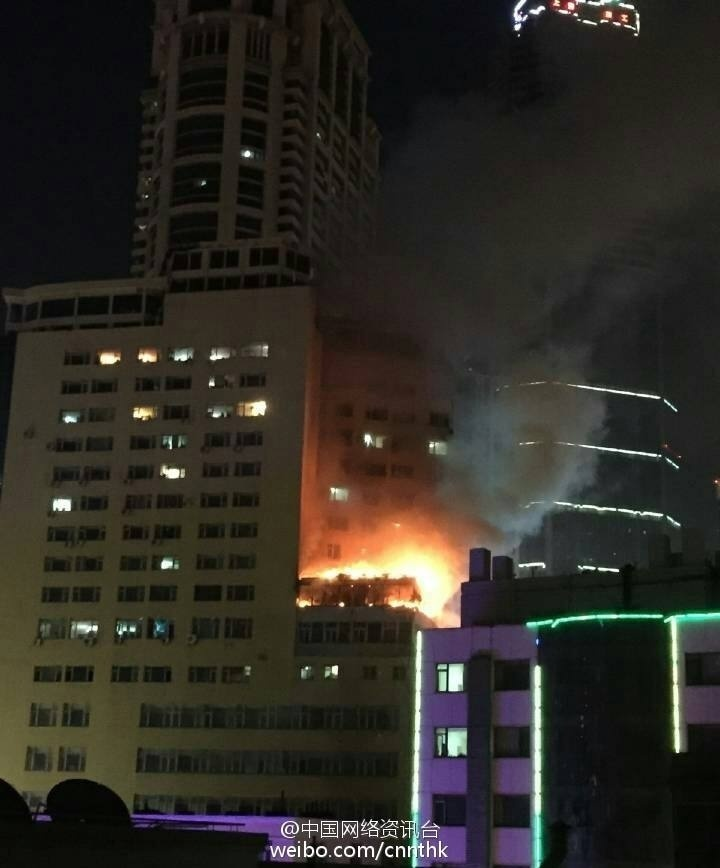fire: (299, 544, 460, 617)
